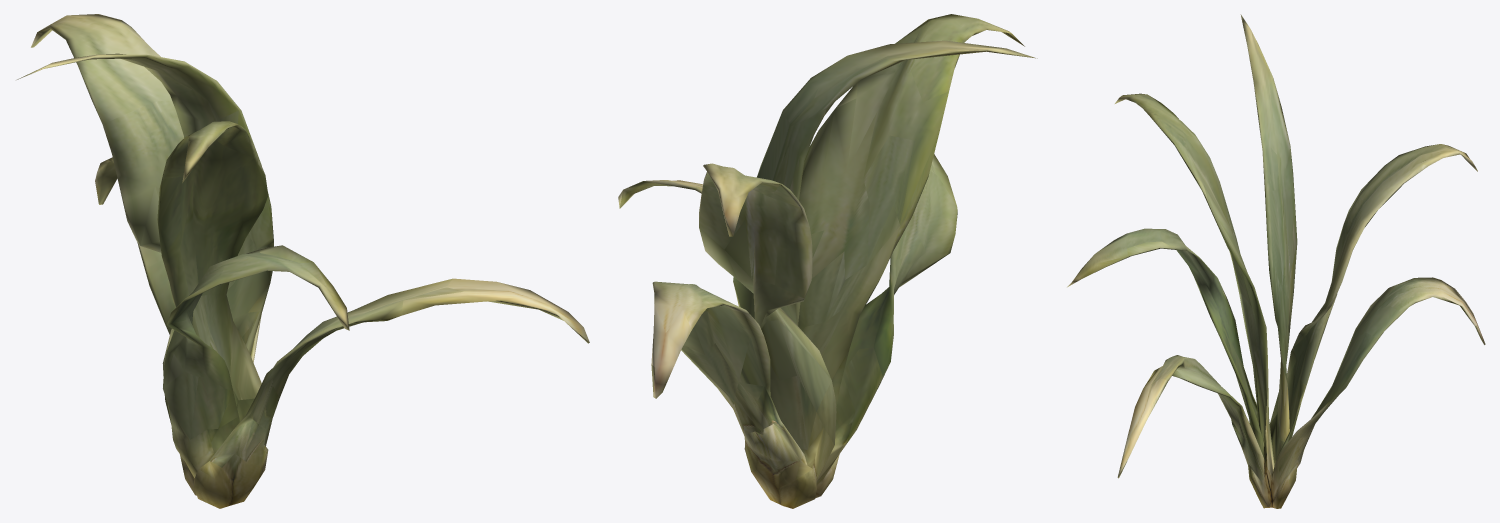
File: grass-sparse-v1.glb
3 renders of one model, left to right at view 1: azimuth 30°, elevation 25°; view 2: azimuth 150°, elevation 25°; view 3: azimuth 270°, elevation 25°, orthographic. The views are drawn at different scales.
Parts seen in each view (by area): view 1: tripo_node_27e26d3d-b74e-47c0-bdd7-c6bf58492789; view 2: tripo_node_27e26d3d-b74e-47c0-bdd7-c6bf58492789; view 3: tripo_node_27e26d3d-b74e-47c0-bdd7-c6bf58492789.
Part boxes in pixels (x1,y1,x2,y2): tripo_node_27e26d3d-b74e-47c0-bdd7-c6bf58492789: [17, 14, 589, 508]; tripo_node_27e26d3d-b74e-47c0-bdd7-c6bf58492789: [618, 14, 1037, 508]; tripo_node_27e26d3d-b74e-47c0-bdd7-c6bf58492789: [1067, 14, 1485, 508].
Size of the model in its own units: 0.3574 by 0.3398 by 0.3203.
1 material, 1 textured.
